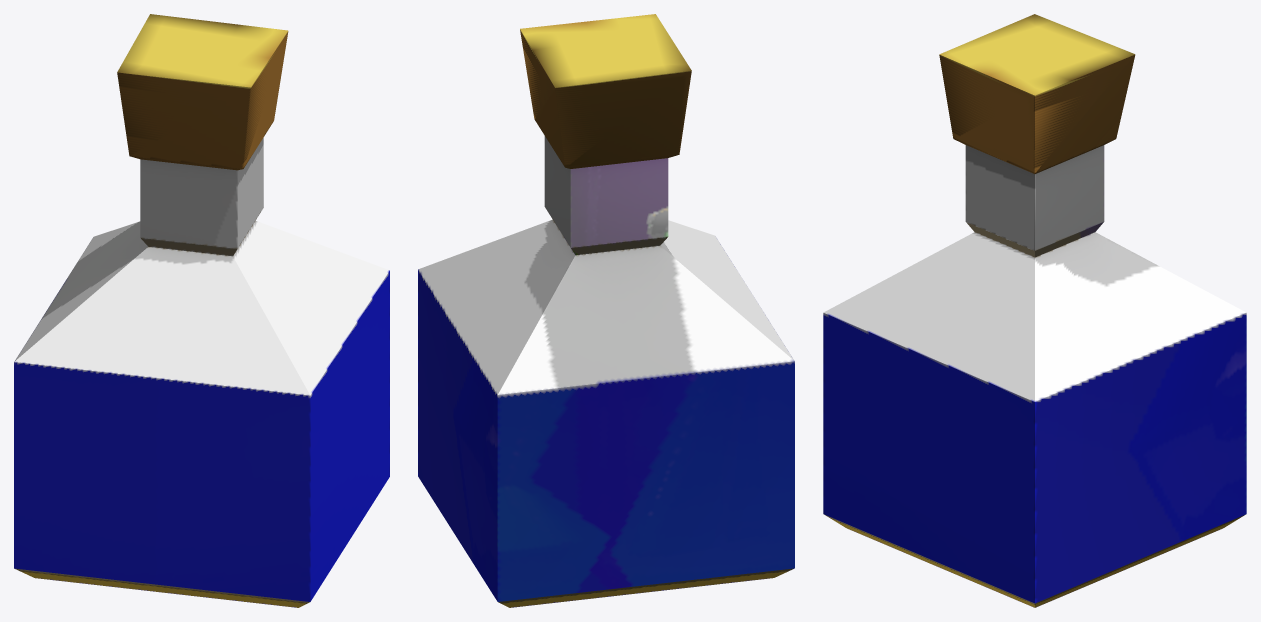
The model's file is Potion1Low.fbx.
The picture shows the model from 3 angles, left to right: view 1: azimuth 30°, elevation 25°; view 2: azimuth 150°, elevation 25°; view 3: azimuth 270°, elevation 25°; orthographic projection. The views are drawn at different scales.
Visible parts, largest first — view 1: Cylinder.003; view 2: Cylinder.003; view 3: Cylinder.003.
Boxes of the visible parts, x1,y1,x2,y2 form: Cylinder.003: (14, 14, 389, 607); Cylinder.003: (418, 14, 794, 607); Cylinder.003: (823, 14, 1246, 607).
Bounding box in the file's own units: 52.5 × 64.84 × 52.5.
